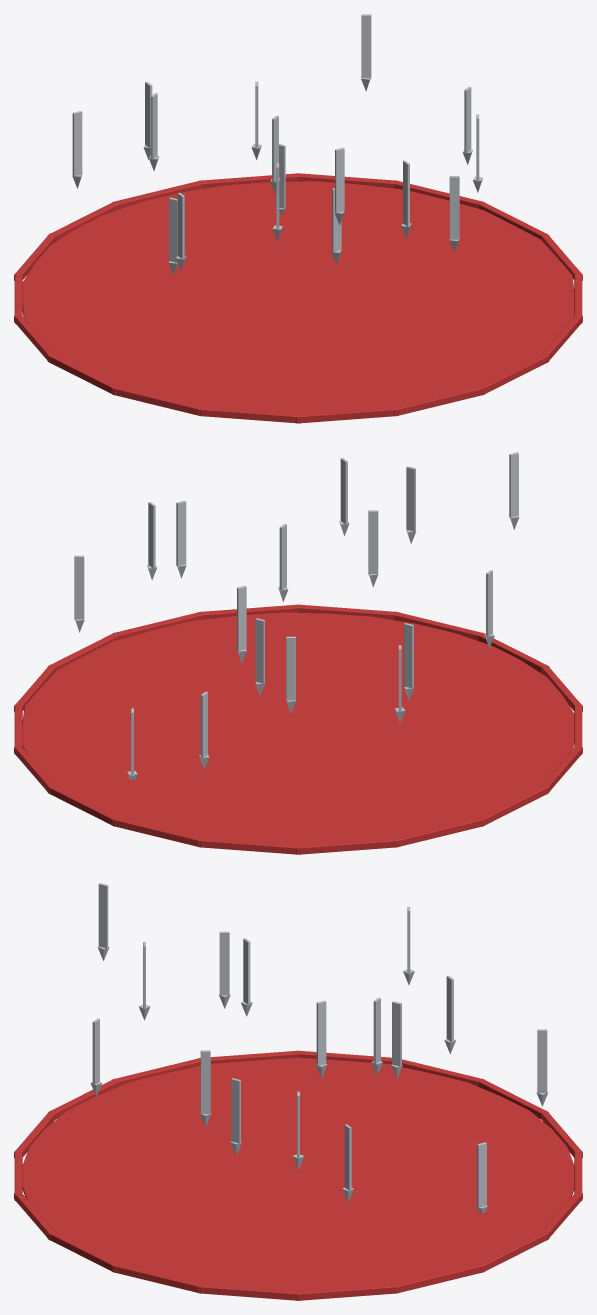
The model's file is blade_rain.glb.
3 renders of one model, top to bottom at view 1: azimuth 30°, elevation 25°; view 2: azimuth 150°, elevation 25°; view 3: azimuth 270°, elevation 25°, orthographic.
Parts seen in each view (by area): view 1: zone, zone_rim_6, zone_rim_5, zone_rim_4, zone_rim_7, zone_rim_3, zone_rim_8, zone_rim_13, blade_12, zone_rim_15, blade_5, blade_11 (+8 smaller); view 2: zone, zone_rim_12, zone_rim_11, zone_rim_10, zone_rim_13, zone_rim_9, zone_rim_14, zone_rim_3, zone_rim_4, blade_13, blade_8, blade_1 (+16 smaller); view 3: zone, zone_rim_0, zone_rim_17, zone_rim_1, zone_rim_16, zone_rim_2, zone_rim_15, blade_9, blade_4, blade_3, blade_14, blade_15 (+11 smaller).
Part boxes in pixels (<box>): zone: <box>22,181,574,413</box>; zone_rim_6: <box>197,406,300,423</box>; zone_rim_5: <box>296,406,399,423</box>; zone_rim_4: <box>393,385,485,416</box>; zone_rim_7: <box>111,385,202,416</box>; zone_rim_3: <box>478,353,549,395</box>; zone_rim_8: <box>47,354,117,395</box>; zone_rim_13: <box>112,180,204,209</box>; blade_12: <box>72,111,82,176</box>; zone_rim_15: <box>296,173,398,188</box>; blade_5: <box>361,14,371,78</box>; blade_11: <box>449,176,459,240</box>; zone: <box>22,612,574,844</box>; zone_rim_12: <box>197,837,300,854</box>; zone_rim_11: <box>296,837,399,854</box>; zone_rim_10: <box>393,817,485,847</box>; zone_rim_13: <box>111,817,202,847</box>; zone_rim_9: <box>478,784,549,826</box>; zone_rim_14: <box>47,784,118,826</box>; zone_rim_3: <box>298,604,398,619</box>; zone_rim_4: <box>393,611,483,640</box>; blade_13: <box>74,555,84,619</box>; blade_8: <box>176,500,186,566</box>; blade_1: <box>368,510,378,574</box>; zone: <box>22,1057,574,1290</box>; zone_rim_0: <box>197,1284,300,1300</box>; zone_rim_17: <box>296,1284,399,1300</box>; zone_rim_1: <box>111,1263,204,1293</box>; zone_rim_16: <box>392,1263,485,1293</box>; zone_rim_2: <box>47,1231,118,1272</box>; zone_rim_15: <box>478,1231,549,1272</box>; blade_9: <box>219,931,229,995</box>; blade_4: <box>316,1000,326,1066</box>; blade_3: <box>200,1050,210,1114</box>; blade_14: <box>98,883,108,948</box>; blade_15: <box>537,1029,547,1093</box>.
Bounding box in the file's own units: 2.89 × 1.34 × 2.85.
